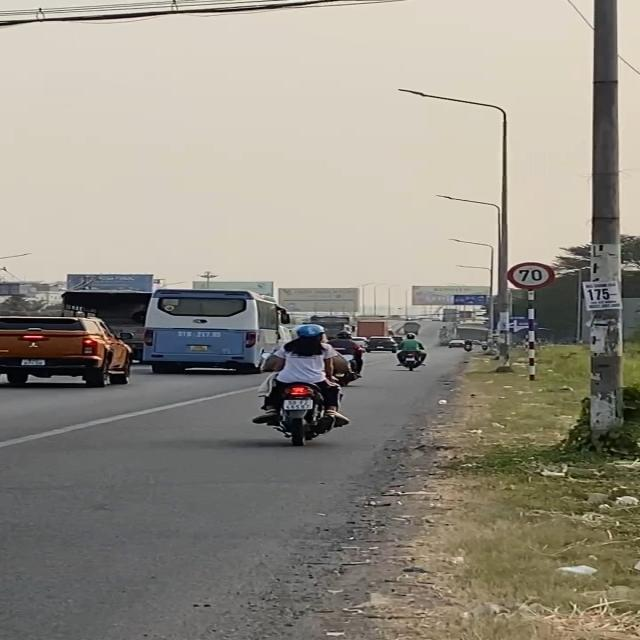127-toc-do-toi-da-70: (507, 261, 555, 290)
